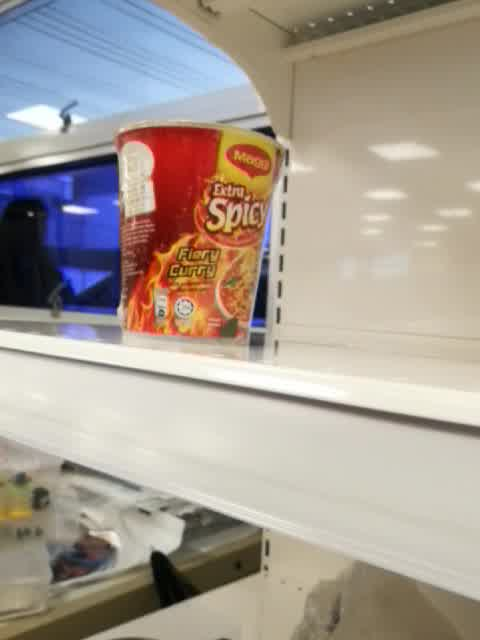maggi: (110, 119, 286, 351)
